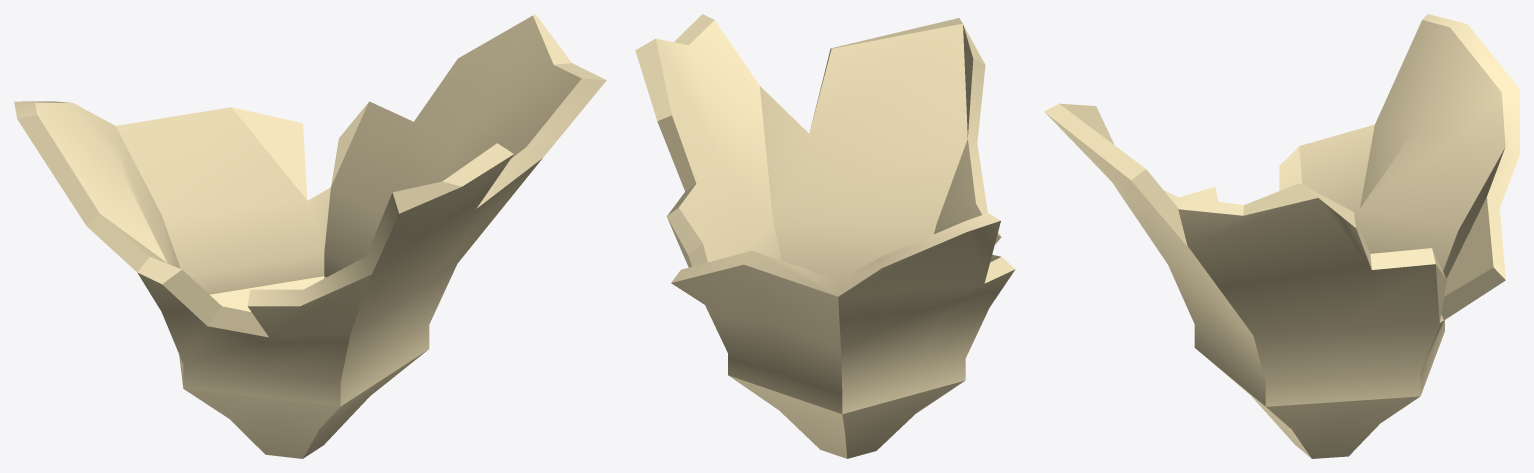
File: Prop_Lampe_Glas_B02.fbx
3 views of the same model, side by side, from view 1: azimuth 30°, elevation 25°; view 2: azimuth 150°, elevation 25°; view 3: azimuth 270°, elevation 25° (orthographic). The views are drawn at different scales.
Parts seen in each view (by area): view 1: Circle_NoneLampe__004; view 2: Circle_NoneLampe__004; view 3: Circle_NoneLampe__004.
Part boxes in pixels (<box>): Circle_NoneLampe__004: <box>14,14,606,458</box>; Circle_NoneLampe__004: <box>635,14,1015,458</box>; Circle_NoneLampe__004: <box>1044,14,1519,458</box>.
Bounding box in the file's own units: 0.5493 × 0.4384 × 0.51.
